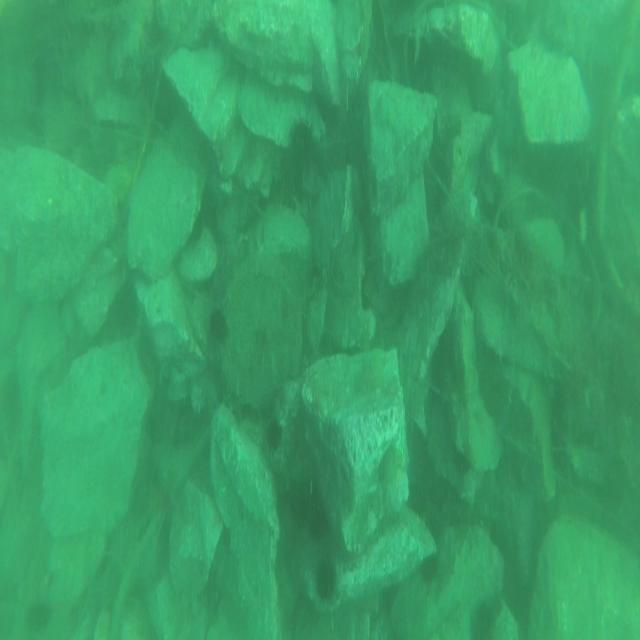echinus: (288, 115, 316, 166), (315, 558, 338, 601), (310, 504, 329, 540), (209, 308, 229, 340), (266, 419, 284, 452)
